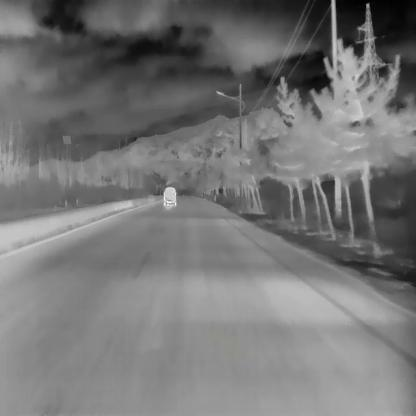car: (163, 184, 176, 206)
